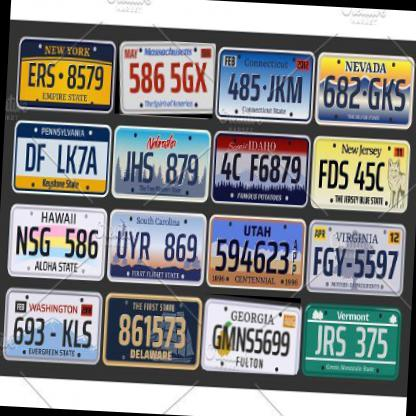Plates: (198, 293, 302, 375), (113, 38, 216, 119)
